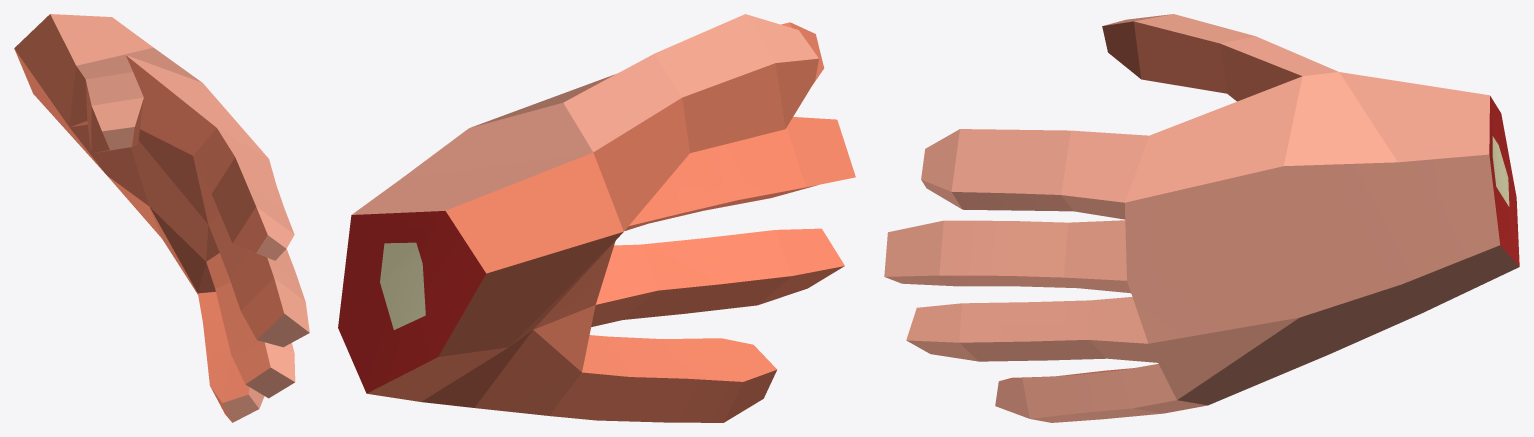
The model's file is LHAND.fbx.
The picture shows the model from 3 angles, left to right: view 1: azimuth 30°, elevation 25°; view 2: azimuth 150°, elevation 25°; view 3: azimuth 270°, elevation 25°; orthographic projection. The views are drawn at different scales.
Parts seen in each view (by area): view 1: Cube__1_; view 2: Cube__1_; view 3: Cube__1_.
Part boxes in pixels (<box>): Cube__1_: <box>14,14,309,422</box>; Cube__1_: <box>338,14,855,422</box>; Cube__1_: <box>884,14,1519,422</box>.
Bounding box in the file's own units: 11.97 × 19.45 × 30.03.
